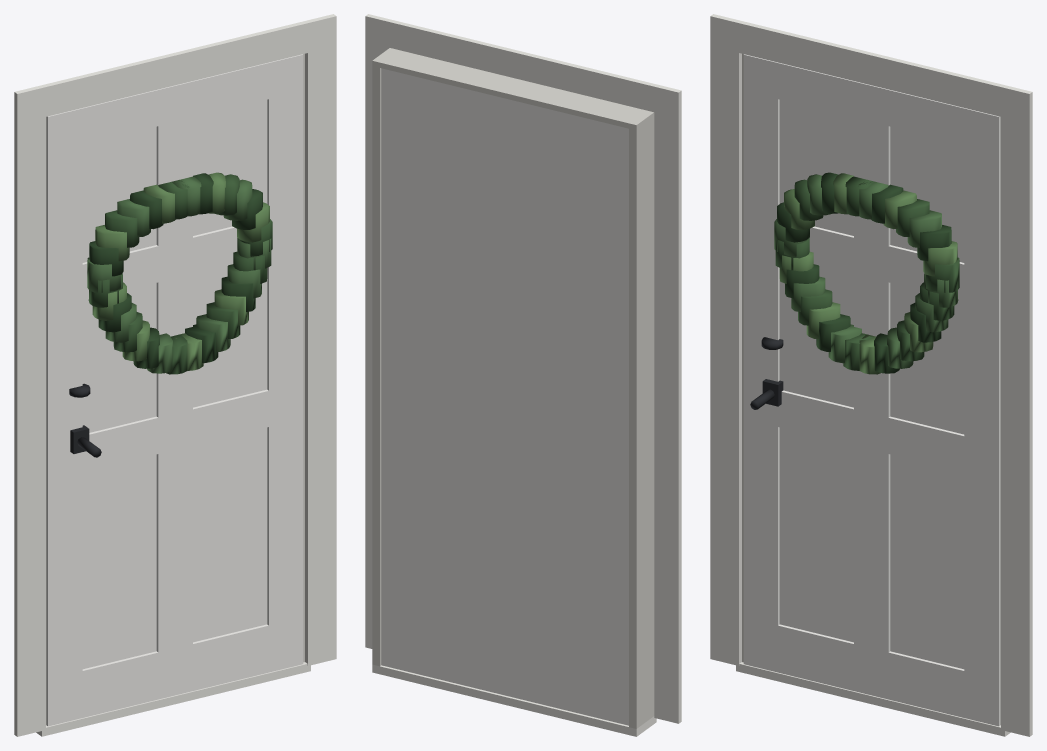
Rendered from garage_entry_door.glb.
3 renders of one model, left to right at view 1: azimuth 30°, elevation 25°; view 2: azimuth 150°, elevation 25°; view 3: azimuth 330°, elevation 25°, orthographic.
Visible parts, largest first — view 1: root; view 2: root; view 3: root.
Boxes of the visible parts, left/top/right/bottom form: root: left=14, top=14, right=336, bottom=736; root: left=365, top=14, right=681, bottom=736; root: left=710, top=14, right=1032, bottom=736.
Bounding box in the file's own units: 1.13 × 2.19 × 0.2377.
